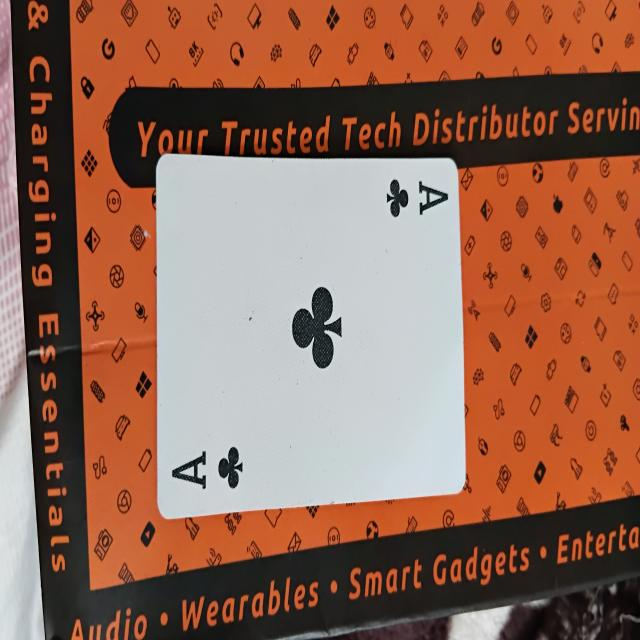AC: (154, 157, 466, 524)
